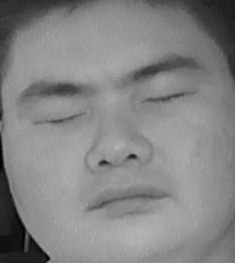blink: (29, 101, 85, 136), (146, 82, 191, 112)
mouth: (85, 175, 172, 221)
